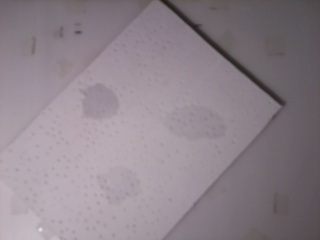Water_detected: (175, 109, 212, 142), (103, 172, 140, 197), (77, 92, 113, 117)
